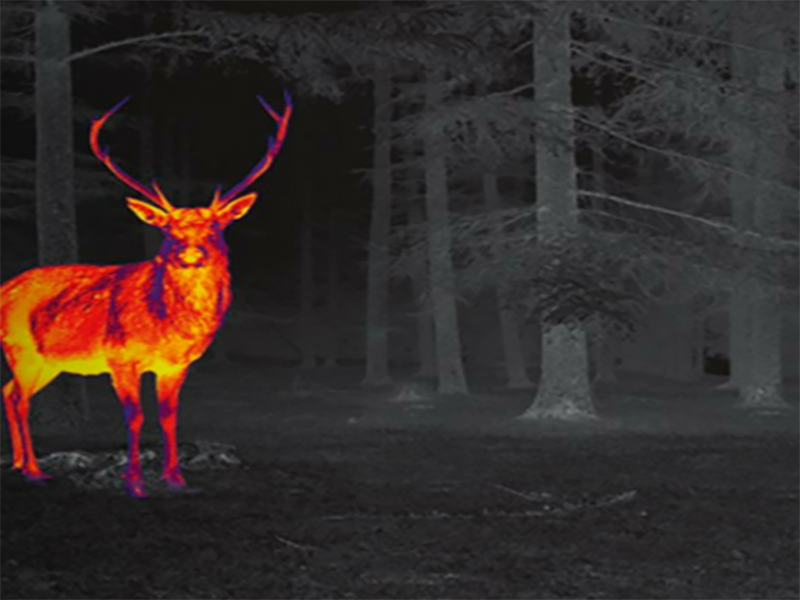cervo: (4, 93, 293, 487)
